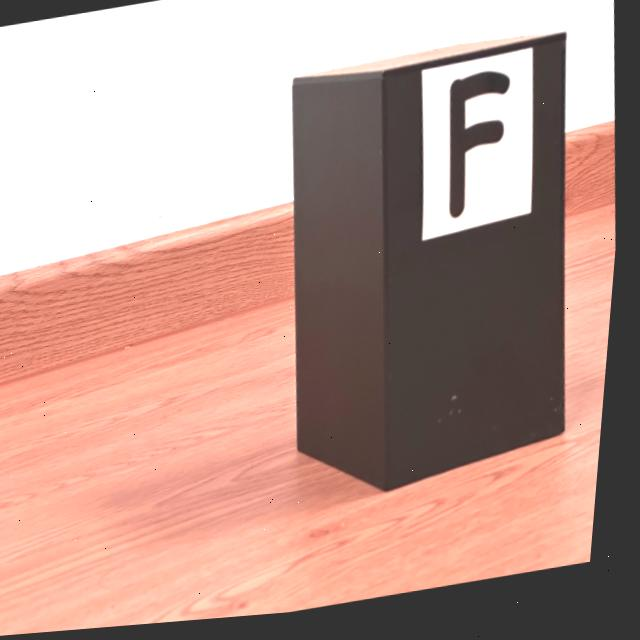F: (452, 79, 512, 226)
